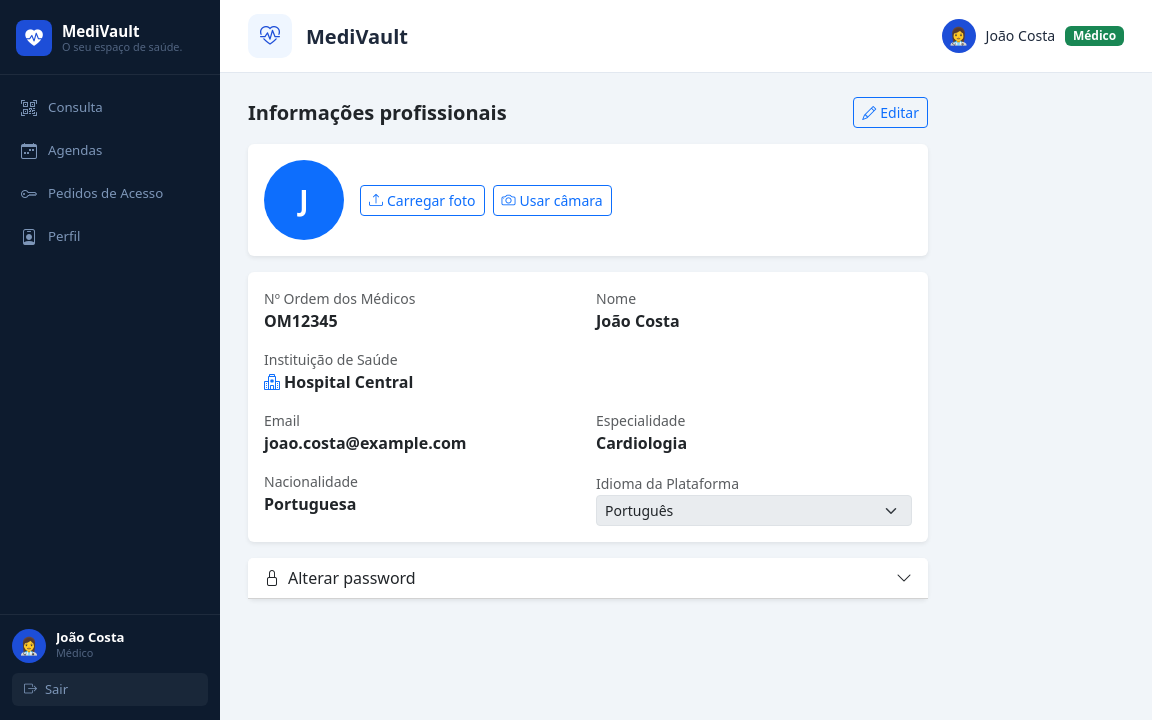
Test: DoctorProfilePage › only allows changing the language while editing
Expected: the text "Hospital Central" is shown, [264,370,413,394]
Expected: the dropdown is disabled, [596,495,912,526]
Click the button "Editar": click(891, 112) [853,97,928,128]
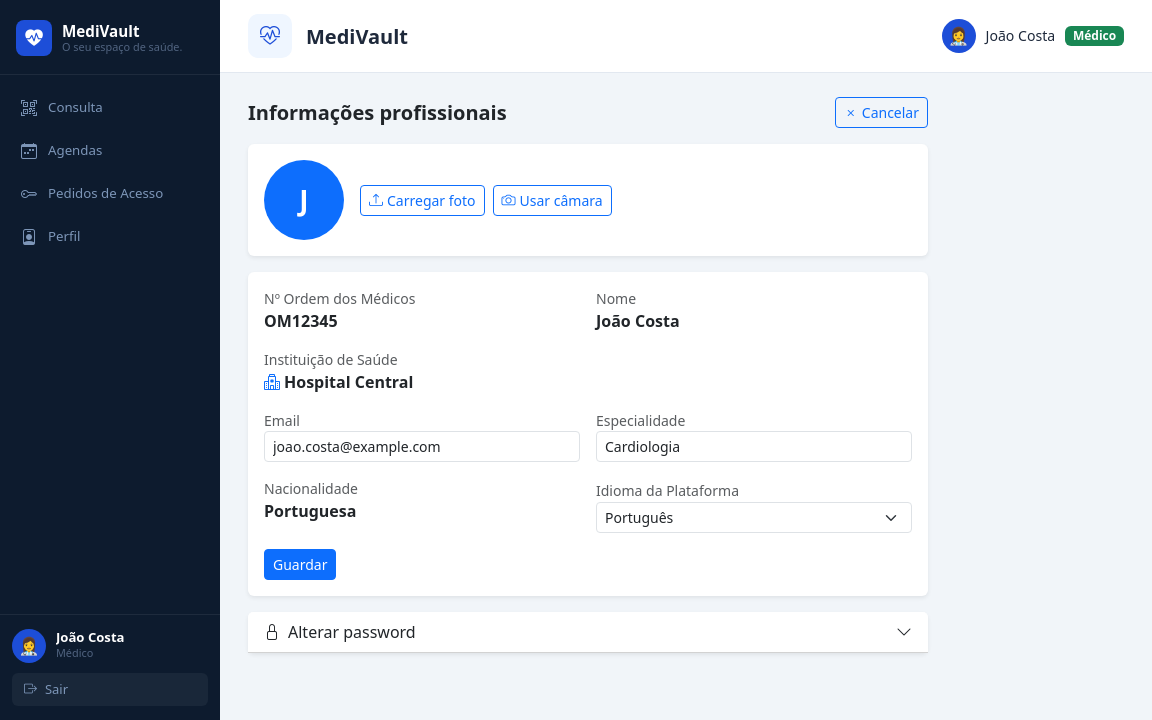
Expected: the dropdown is enabled, [596,502,912,533]
